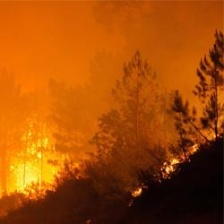fire: (1, 102, 223, 207)
